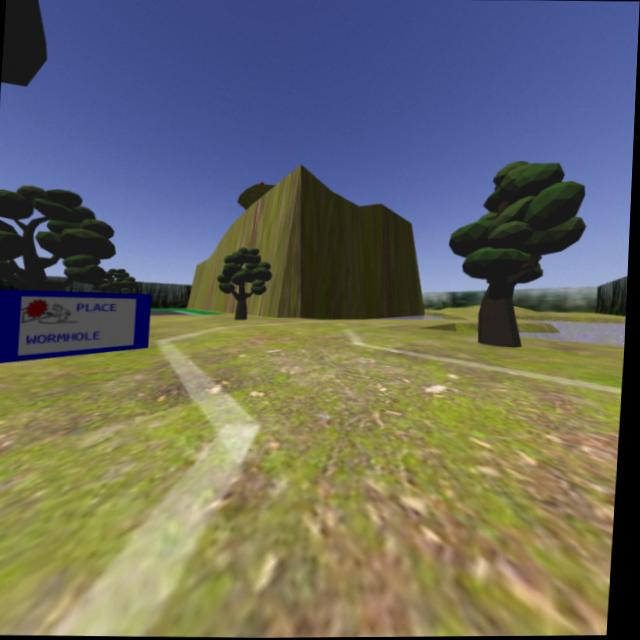clueboard: (0, 286, 153, 365)
